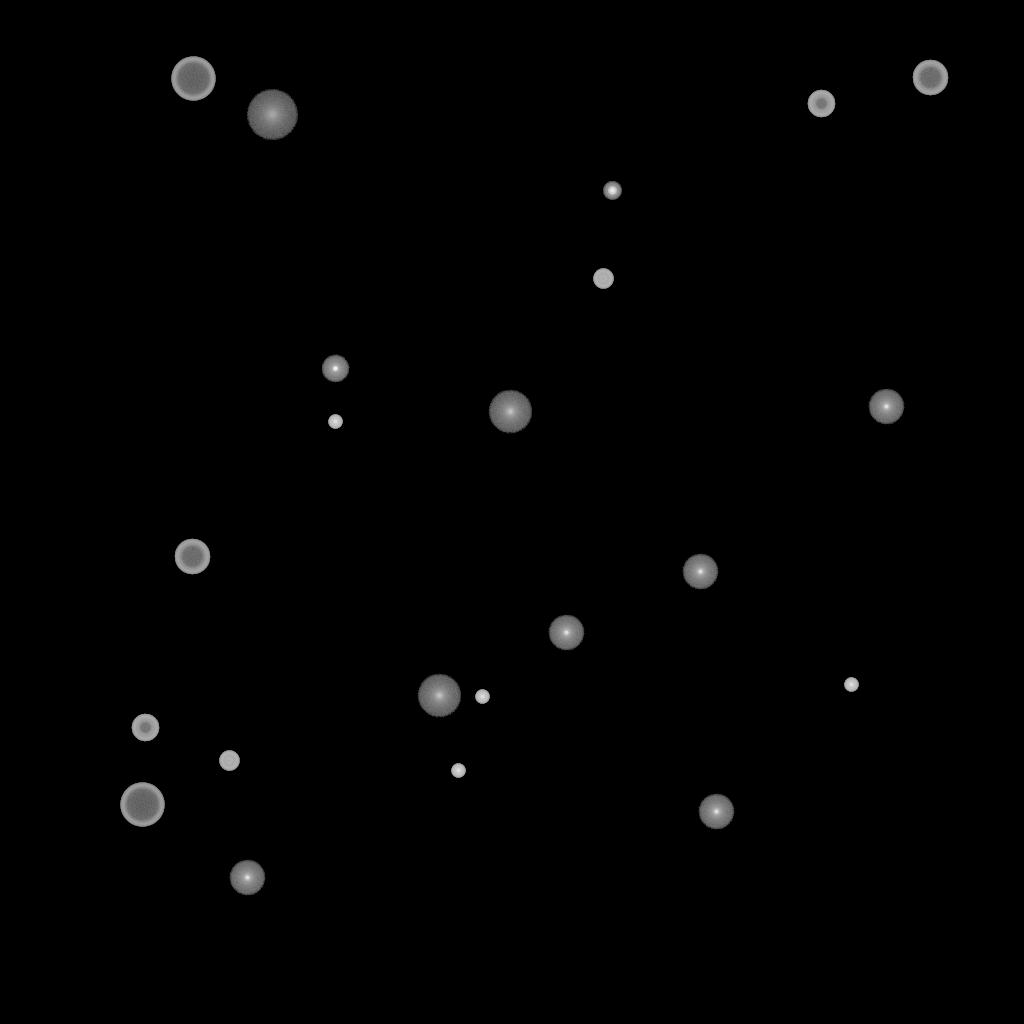depth:-10: (321, 355, 349, 383)
depth:-20: (603, 182, 621, 200)
depth:-30: (475, 690, 489, 704), (451, 764, 465, 778), (328, 415, 342, 429), (844, 678, 858, 692)
depth:-40: (593, 269, 613, 289), (219, 751, 239, 771)
depth:-50: (131, 714, 159, 742), (807, 90, 835, 118)
depth:-60: (174, 539, 210, 575), (912, 60, 948, 96)
depth:-70: (120, 783, 164, 827), (171, 57, 215, 101)
depth:0: (548, 615, 584, 651), (698, 794, 734, 830), (682, 554, 718, 590), (868, 389, 904, 425), (229, 860, 265, 896)
depth:10: (417, 674, 461, 718), (488, 390, 532, 434)
depth:20: (246, 90, 298, 140)
